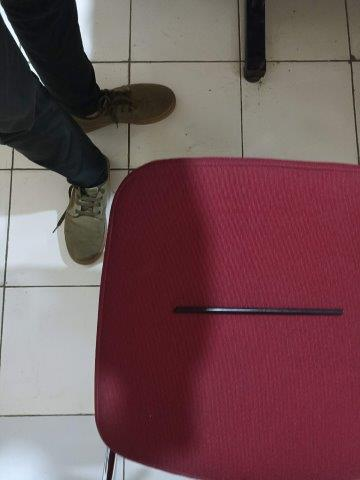sedotan: (175, 307, 343, 316)
